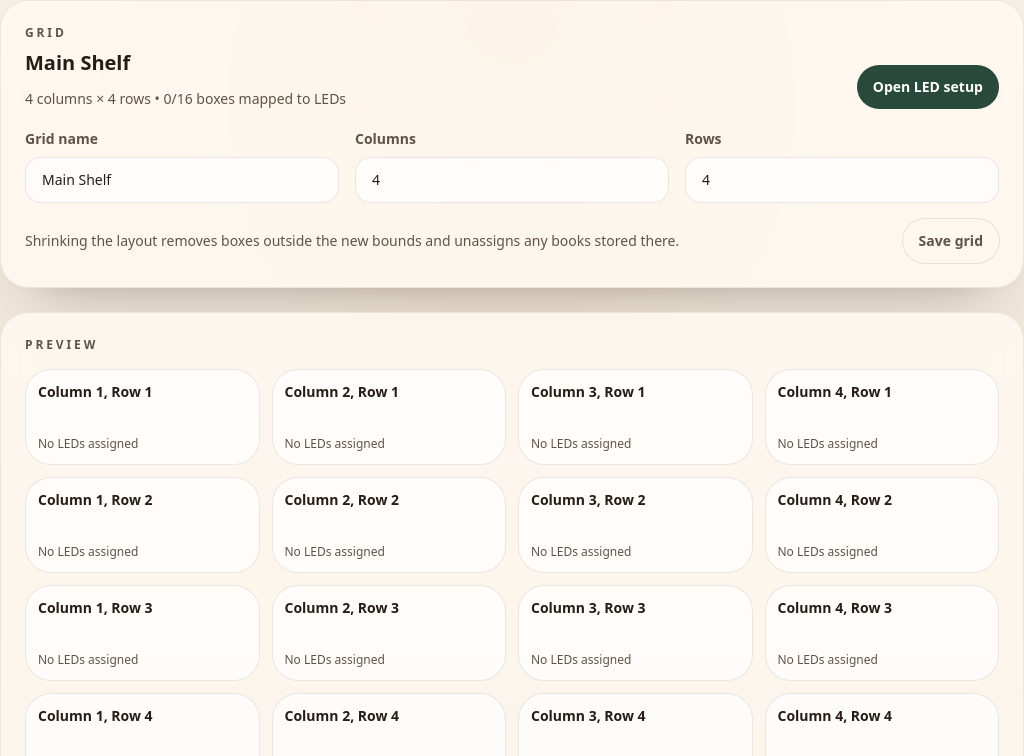
Test case: Manage grid route › lets the user change grid columns and rows when editing
Expected: the heading "Main Shelf" is shown, x1=25 y1=49 x2=130 y2=76
Expected: the form named "Save grid" is shown, x1=25 y1=129 x2=999 y2=263
Replace the text in the field labelled "Grid name" with "Front Shelf" at x=182, y=180, box x1=25 y1=157 x2=339 y2=203
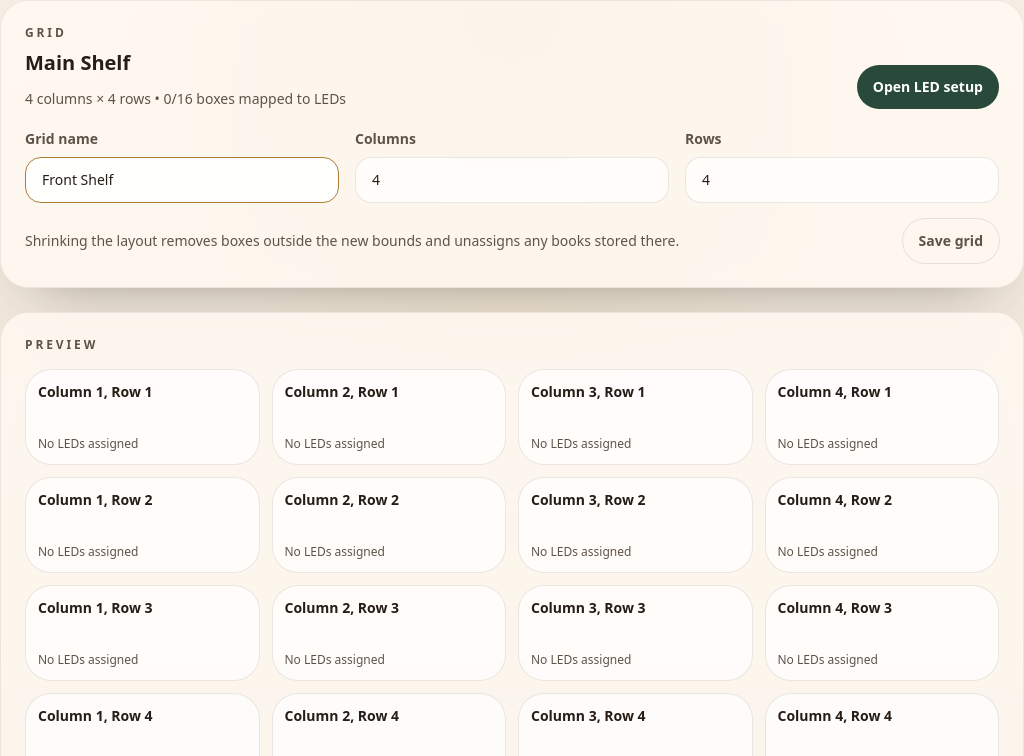
Replace the text in the number field labelled "Columns" with "5" at x=512, y=180, box x1=355 y1=157 x2=669 y2=203
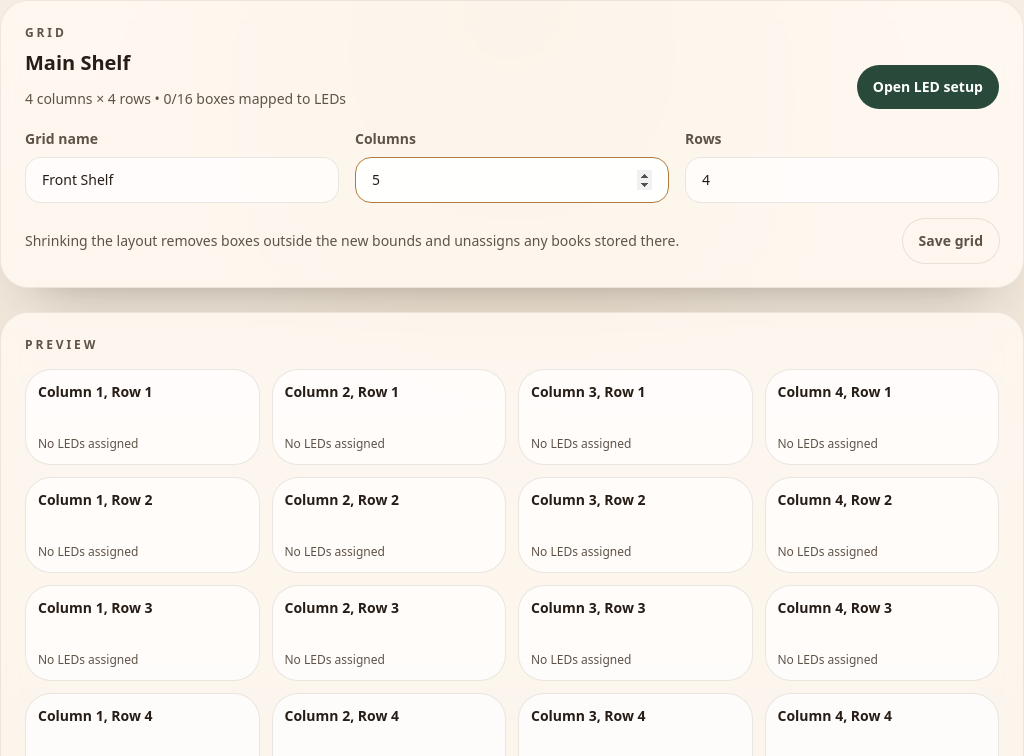
Replace the text in the number field labelled "Rows" with "3" at x=842, y=180, box x1=685 y1=157 x2=999 y2=203
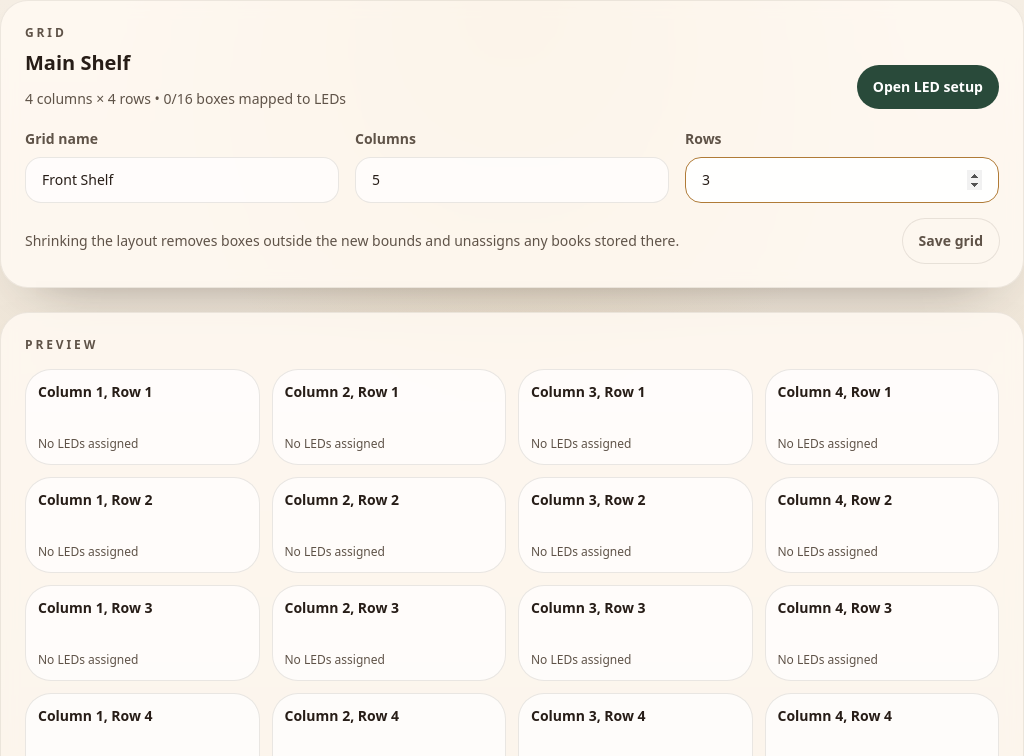
Click the button "Save grid" at x=951, y=241, box x1=903 y1=219 x2=999 y2=263
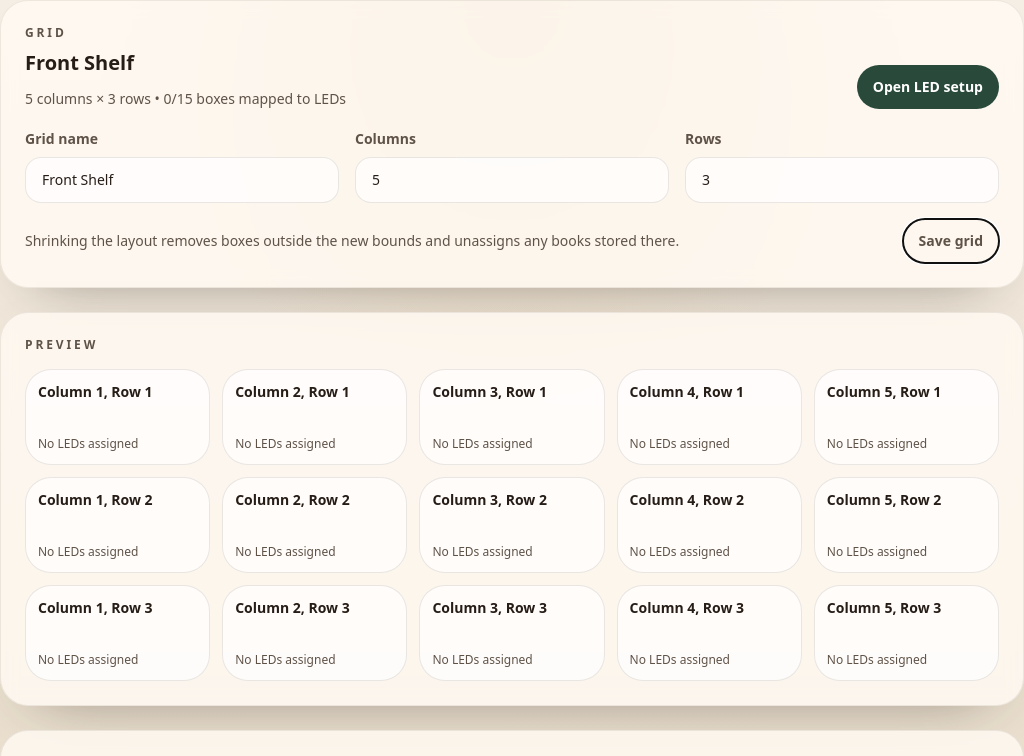
Now the heading "Front Shelf" is shown, box x1=25 y1=49 x2=134 y2=76
Now the text "5 columns × 3 rows • 0/15 boxes mapped to LEDs" is shown, box x1=25 y1=89 x2=346 y2=109
